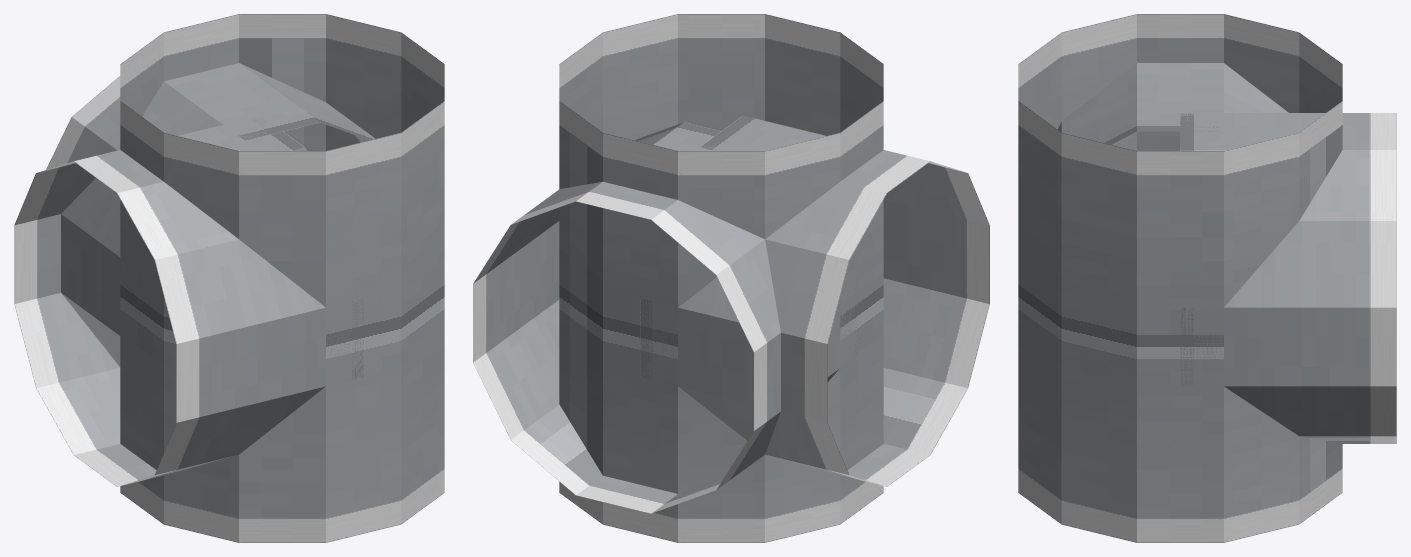
File: connection_23.obj
3 renders of one model, left to right at view 1: azimuth 30°, elevation 25°; view 2: azimuth 150°, elevation 25°; view 3: azimuth 270°, elevation 25°, orthographic.
Size of the model in its own units: 0.875 by 1 by 0.875.
